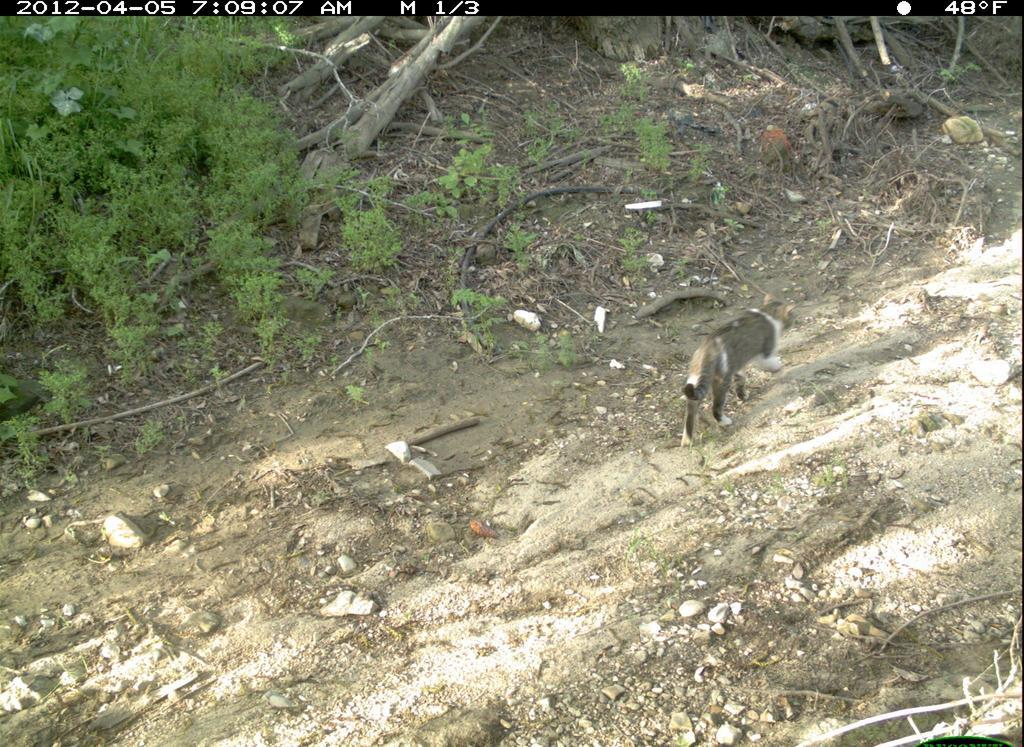cat: (649, 283, 824, 455)
